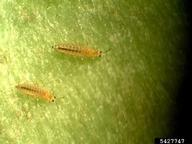Thrips: (43, 39, 118, 67), (13, 79, 67, 108)
